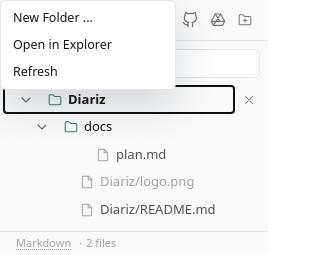
the workspace menu › refreshes that workspace when Refresh is chosen, and closes
Click the menu item "Refresh" at (88, 72), box [5, 58, 171, 85]
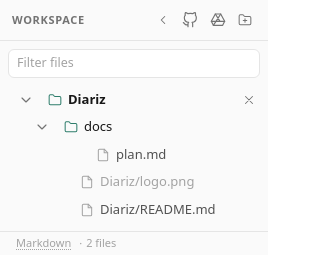
Check: the menu is gone
